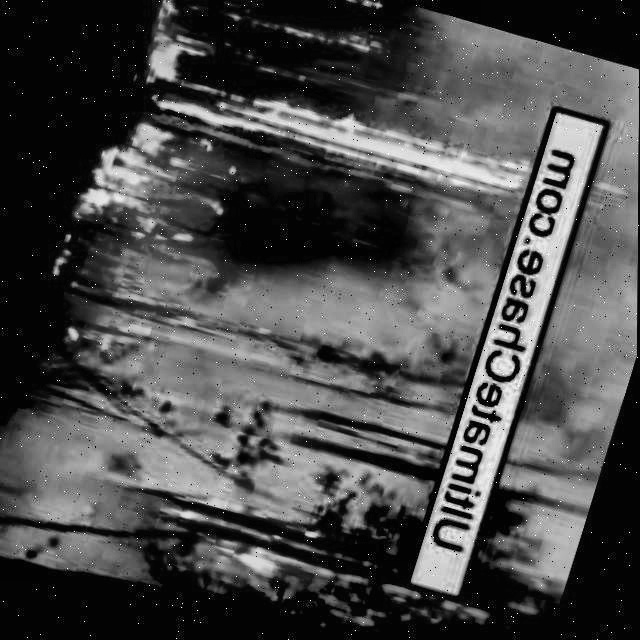Fire: (80, 0, 244, 238), (210, 69, 525, 192), (265, 9, 374, 66), (386, 582, 483, 633), (52, 311, 122, 368), (230, 541, 296, 592), (341, 0, 386, 19)
